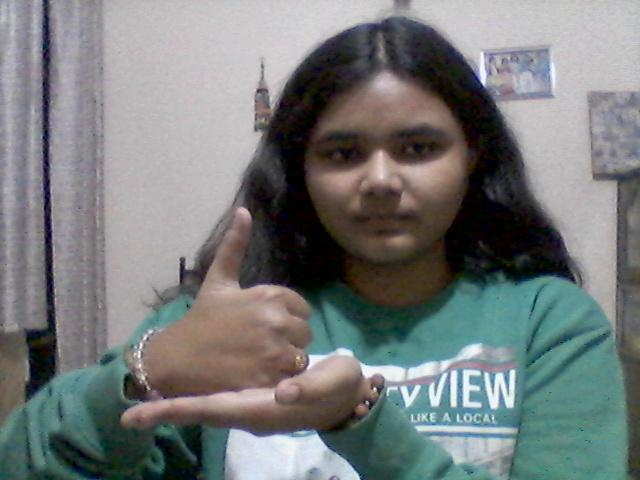help: (109, 203, 381, 436)
